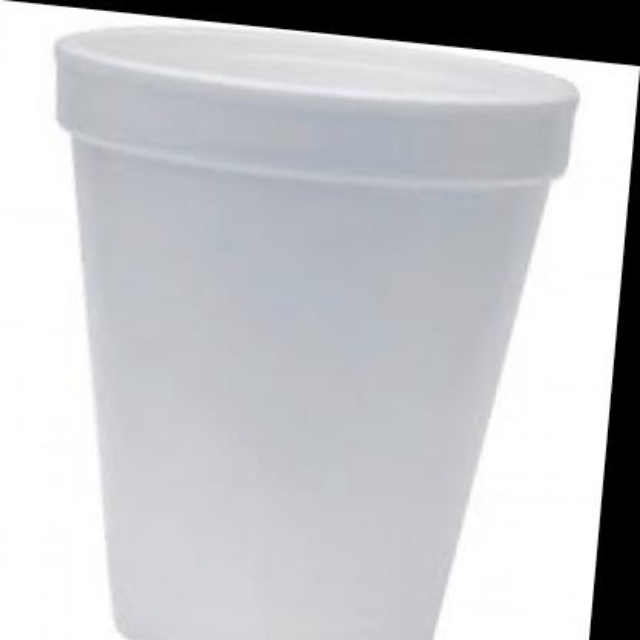trash: (55, 25, 577, 638)
